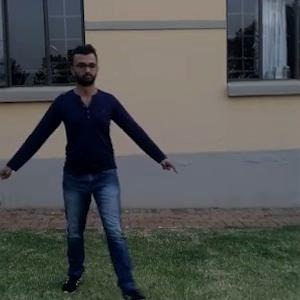land: (2, 46, 163, 284)
